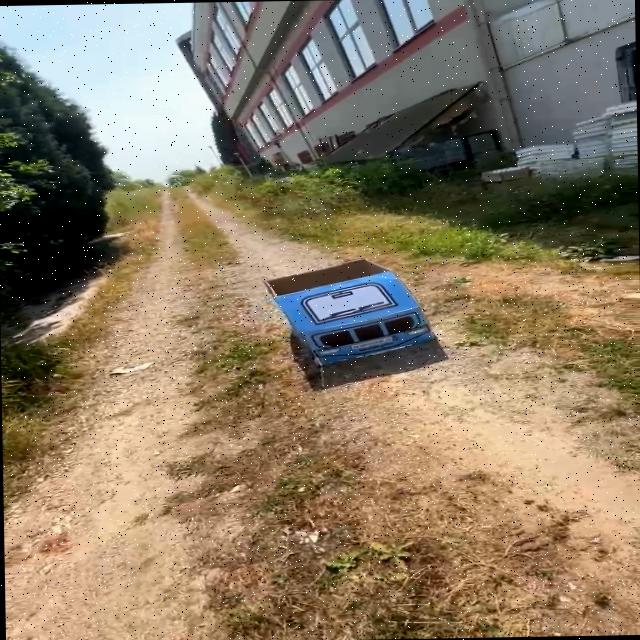blue_car: (262, 236, 470, 387)
